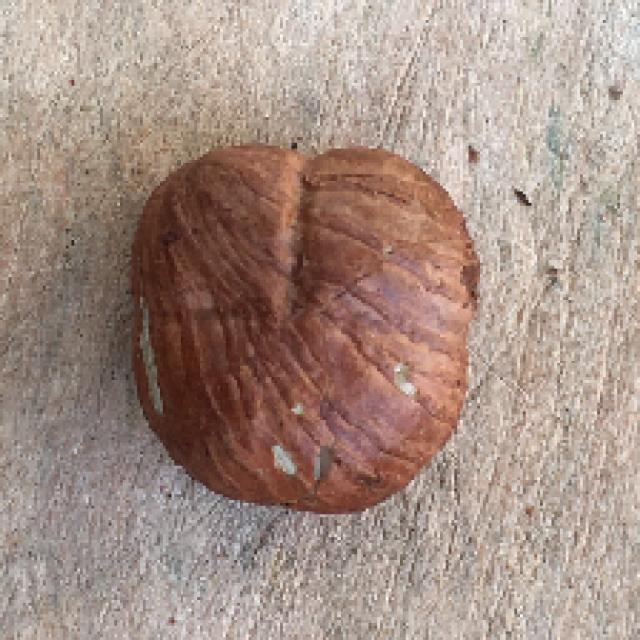hazelnut: (142, 149, 484, 515)
